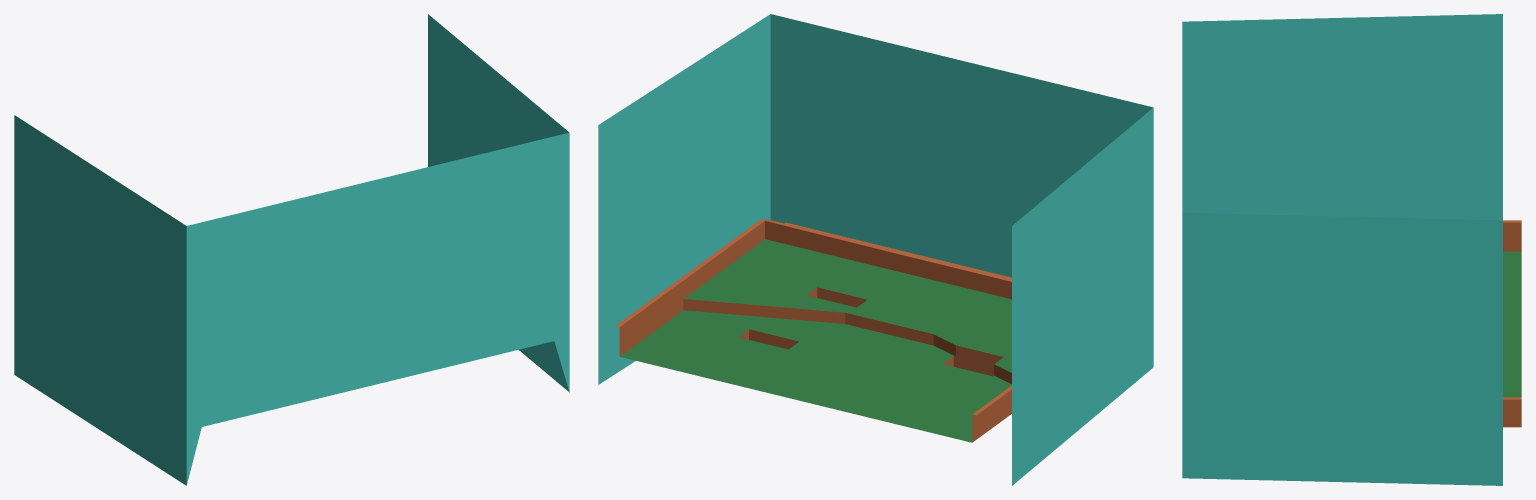
Rendered from TestBattleArea.fbx.
The picture shows the model from 3 angles, left to right: view 1: azimuth 30°, elevation 25°; view 2: azimuth 150°, elevation 25°; view 3: azimuth 270°, elevation 25°; orthographic projection. The views are drawn at different scales.
Visible parts, largest first — view 1: Plane; view 2: Plane; view 3: Plane.
Part boxes in pixels (box(x1,y1,x2,y2)): Plane: box(14, 14, 569, 485); Plane: box(598, 14, 1153, 485); Plane: box(1182, 14, 1521, 485).
Bounding box in the file's own units: 1643 × 987 × 1143.
